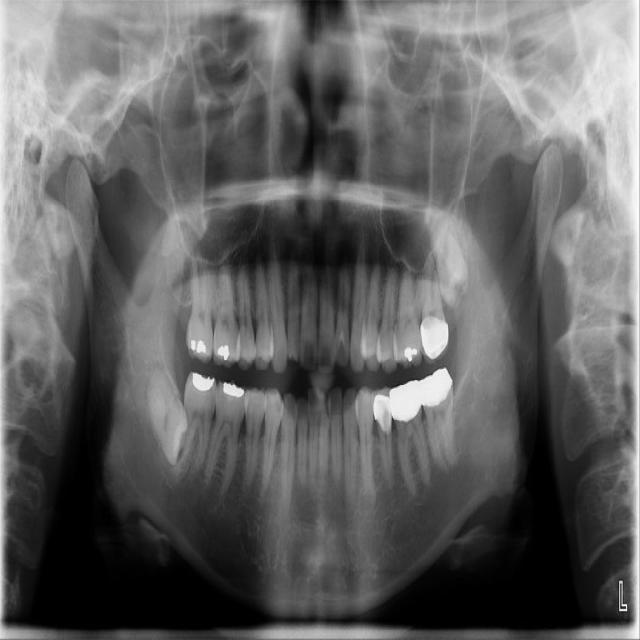Filling: (418, 367, 454, 408), (420, 315, 449, 365), (389, 380, 422, 423), (372, 386, 393, 435), (185, 336, 209, 358), (191, 372, 214, 393), (220, 381, 244, 400), (214, 343, 233, 364), (402, 344, 417, 363)
impacted tooth: (145, 362, 187, 463), (428, 214, 471, 305)
